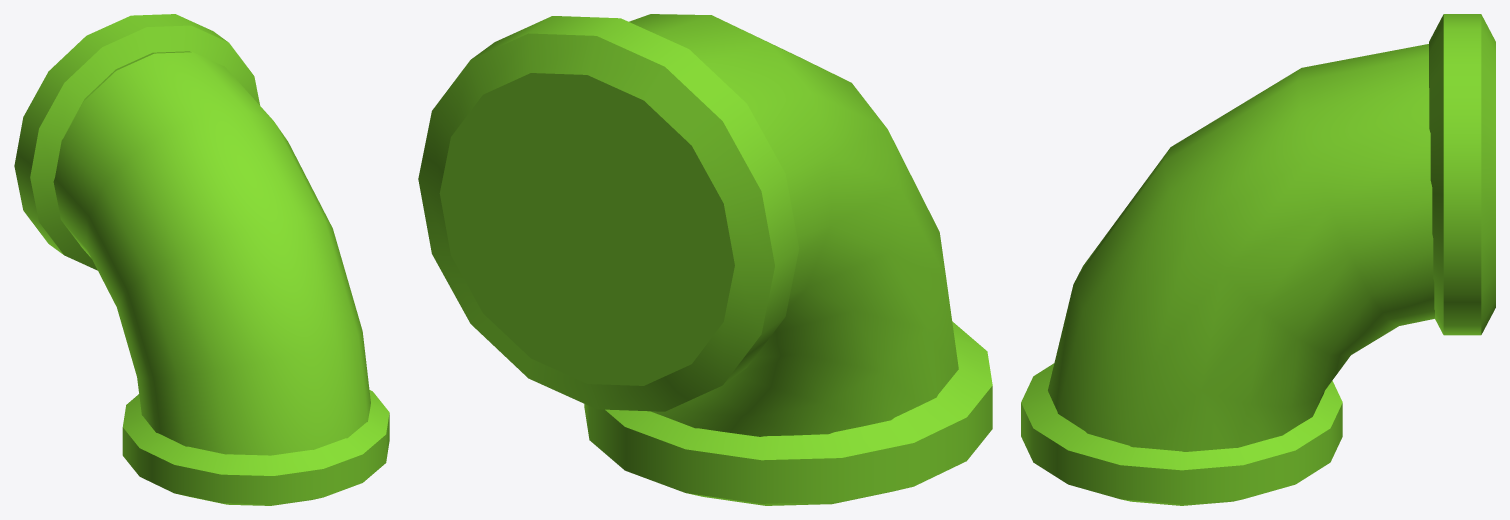
File: Pipe_04_Lod0.fbx
3 views of the same model, side by side, from view 1: azimuth 30°, elevation 25°; view 2: azimuth 150°, elevation 25°; view 3: azimuth 270°, elevation 25° (orthographic). The views are drawn at different scales.
Parts seen in each view (by area): view 1: Pipe_04_Lod0; view 2: Pipe_04_Lod0; view 3: Pipe_04_Lod0.
Boxes of the visible parts, box(x1,y1,x2,y2) form: Pipe_04_Lod0: box(14, 14, 389, 505); Pipe_04_Lod0: box(418, 14, 992, 505); Pipe_04_Lod0: box(1021, 14, 1495, 505).
Size of the model in its own units: 313 by 452 by 462.
